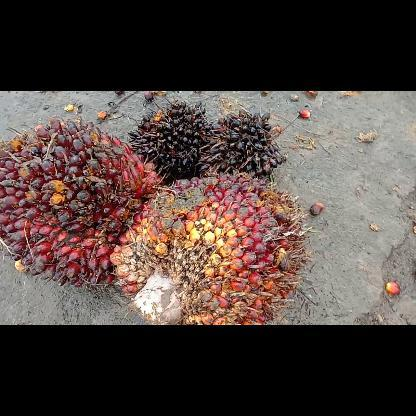TBS abnormal: (124, 96, 212, 184), (196, 106, 286, 182)
TBS masak: (108, 172, 310, 324), (0, 117, 163, 290)
